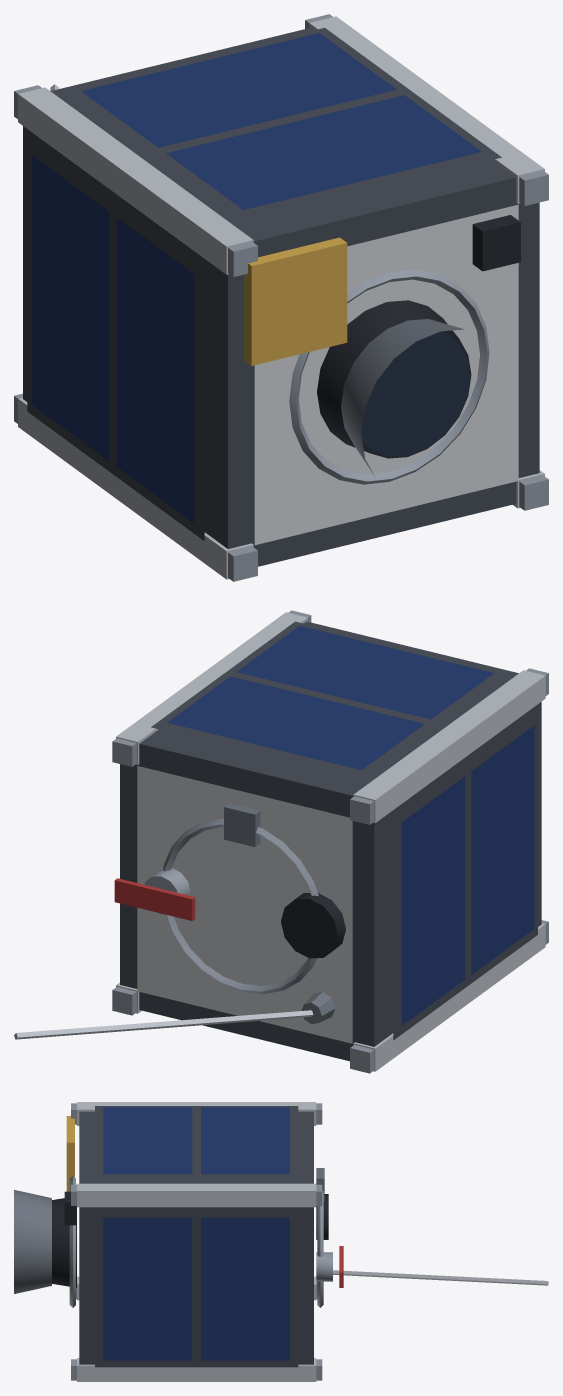
The model's file is cubesat-1u.glb.
The picture shows the model from 3 angles, top to bottom: view 1: azimuth 30°, elevation 25°; view 2: azimuth 150°, elevation 25°; view 3: azimuth 270°, elevation 25°; orthographic projection. The views are drawn at different scales.
Visible parts, largest first — view 1: body, solar-panel; view 2: body, solar-panel, foil; view 3: body, solar-panel, foil.
Boxes of the visible parts, x1,y1,x2,y2 form: body: (14, 14, 548, 581); solar-panel: (31, 33, 481, 522); body: (112, 610, 548, 1073); solar-panel: (167, 626, 534, 1025); foil: (14, 1010, 313, 1039); body: (14, 1102, 343, 1381); solar-panel: (103, 1107, 289, 1360); foil: (333, 1270, 548, 1285).
Bounding box in the file's own units: 0.106 × 0.106 × 0.2541.
